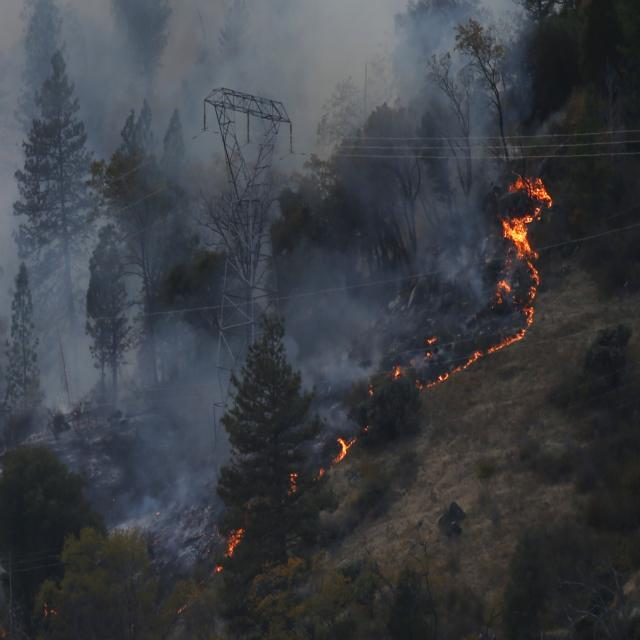Smoke: (0, 0, 445, 401), (75, 274, 392, 571), (359, 0, 569, 313)
